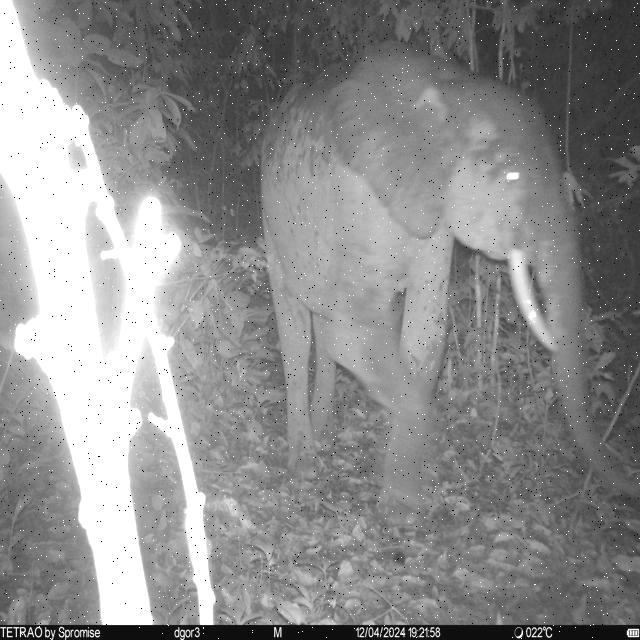ear: (329, 41, 449, 242)
elephant: (259, 42, 639, 516)
tusk: (506, 252, 560, 354)
